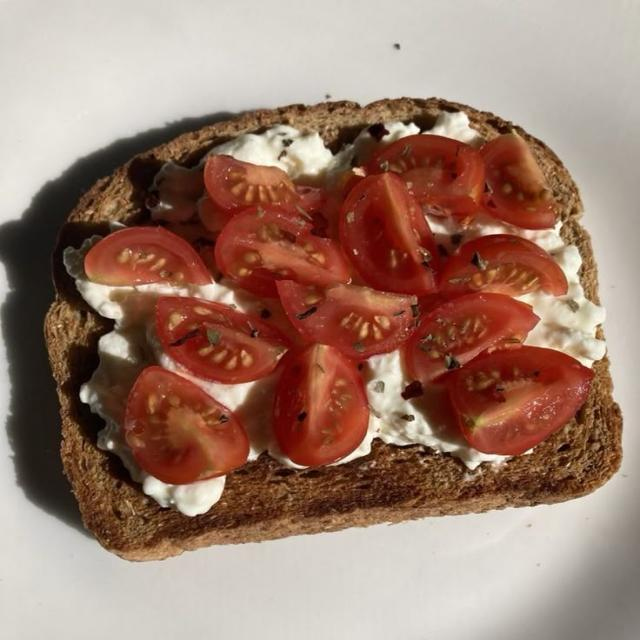sliced bread: (43, 98, 623, 559)
sliced tomatoe: (446, 347, 593, 455), (125, 366, 248, 484), (405, 293, 539, 382), (216, 207, 349, 296), (340, 173, 437, 295), (274, 345, 369, 466), (155, 297, 288, 383), (278, 281, 417, 359), (366, 134, 484, 215), (439, 235, 567, 296), (480, 133, 557, 229), (85, 227, 211, 285), (204, 155, 299, 210), (147, 162, 204, 222), (164, 219, 219, 276), (294, 186, 342, 239), (197, 197, 233, 234)
